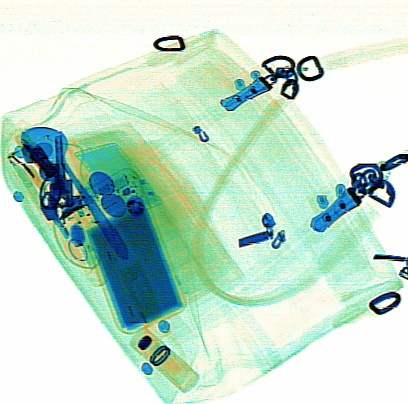powerbank: (73, 166, 188, 336)
